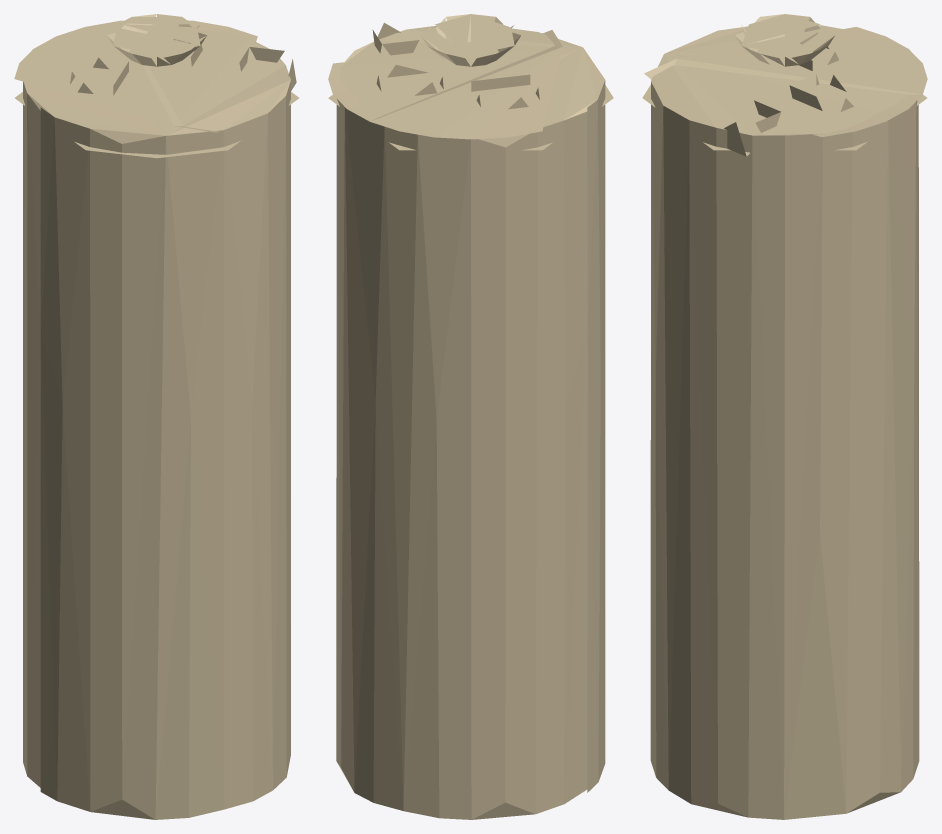
File: tower_far.glb
3 renders of one model, left to right at view 1: azimuth 30°, elevation 25°; view 2: azimuth 150°, elevation 25°; view 3: azimuth 270°, elevation 25°, orthographic.
Parts seen in each view (by area): view 1: tower_far; view 2: tower_far; view 3: tower_far.
Boxes of the visible parts, bbox=[...] form: tower_far: bbox=[14, 14, 299, 819]; tower_far: bbox=[328, 14, 613, 819]; tower_far: bbox=[642, 14, 927, 819].
Bounding box in the file's own units: 6.52 × 19.15 × 6.8.
